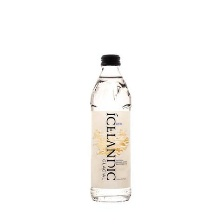bottle: (86, 46, 137, 210)
